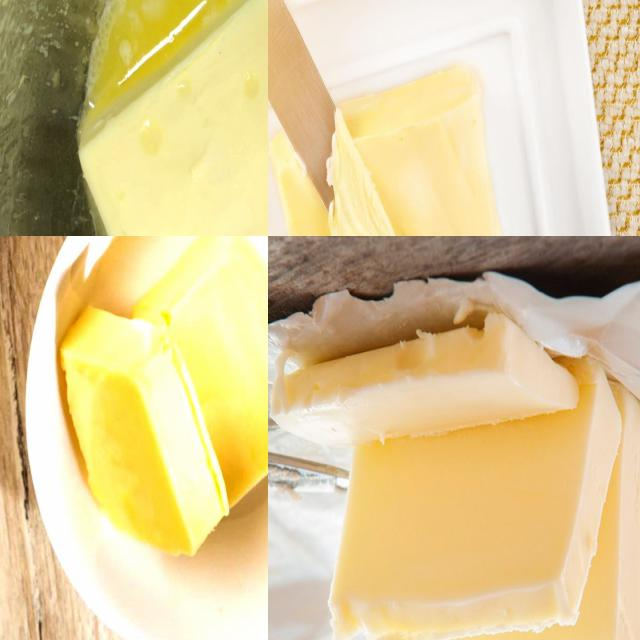butter: (268, 316, 639, 639), (62, 236, 267, 571), (77, 0, 267, 235), (268, 60, 512, 235)
